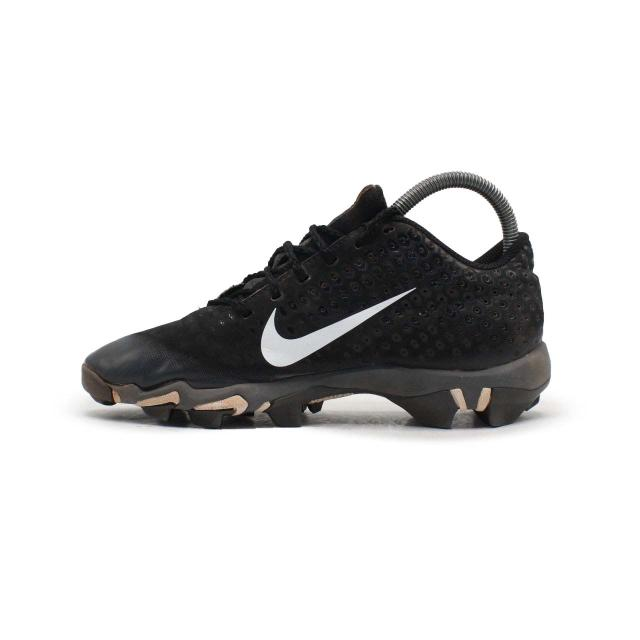heel: (502, 234, 542, 363)
midsole: (83, 344, 549, 433)
uppersole: (86, 185, 508, 388)
